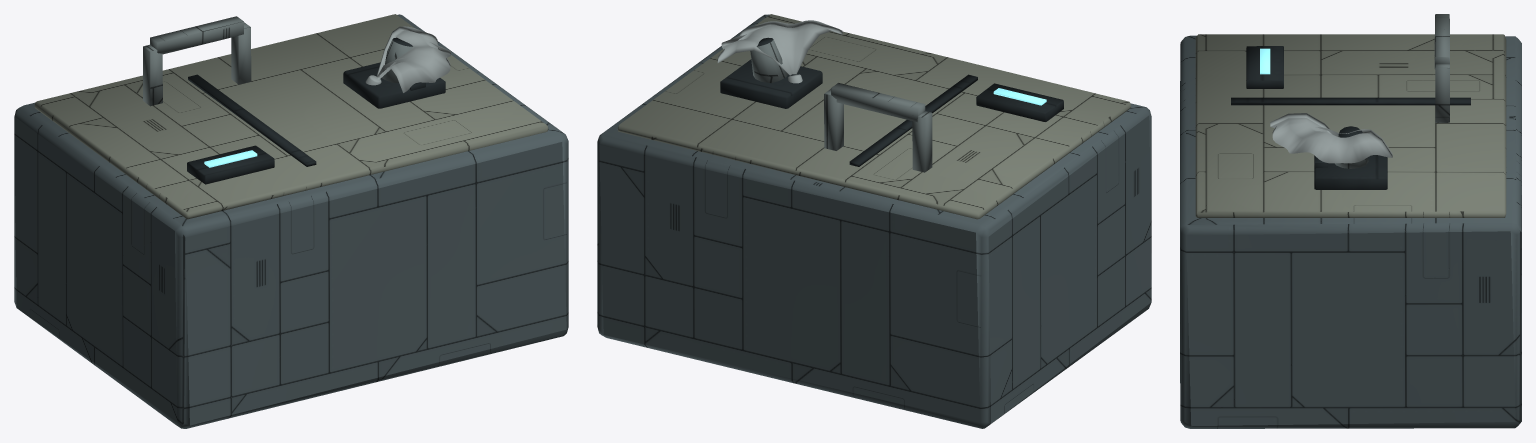
The model's file is borrowed_voice_c_lod2.glb.
The picture shows the model from 3 angles, left to right: view 1: azimuth 30°, elevation 25°; view 2: azimuth 150°, elevation 25°; view 3: azimuth 270°, elevation 25°; orthographic projection.
Visible parts, largest first — view 1: LOD2_Hull, LOD2_Armor, LOD2_MechanicalDark, LOD2_BrushedMetal, LOD2_MOTION_BORROWED_VOICE_RECEIVER_Stone; view 2: LOD2_Hull, LOD2_Armor, LOD2_MechanicalDark, LOD2_BrushedMetal, LOD2_MOTION_BORROWED_VOICE_RECEIVER_Stone, LOD2_MOTION_BORROWED_VOICE_RECEIVER_BrushedMetal; view 3: LOD2_Hull, LOD2_Armor, LOD2_MechanicalDark, LOD2_MOTION_BORROWED_VOICE_RECEIVER_Stone, LOD2_BrushedMetal.
Boxes of the visible parts, x1=… form: LOD2_Hull: x1=14, y1=14, x2=568, y2=428; LOD2_Armor: x1=34, y1=14, x2=548, y2=219; LOD2_MechanicalDark: x1=187, y1=62, x2=445, y2=184; LOD2_BrushedMetal: x1=143, y1=16, x2=251, y2=106; LOD2_MOTION_BORROWED_VOICE_RECEIVER_Stone: x1=365, y1=26, x2=450, y2=92; LOD2_Hull: x1=597, y1=14, x2=1151, y2=428; LOD2_Armor: x1=617, y1=14, x2=1131, y2=219; LOD2_MechanicalDark: x1=720, y1=59, x2=1063, y2=166; LOD2_BrushedMetal: x1=824, y1=83, x2=932, y2=172; LOD2_MOTION_BORROWED_VOICE_RECEIVER_Stone: x1=717, y1=20, x2=842, y2=83; LOD2_MOTION_BORROWED_VOICE_RECEIVER_BrushedMetal: x1=750, y1=40, x2=788, y2=83; LOD2_Hull: x1=1180, y1=35, x2=1521, y2=428; LOD2_Armor: x1=1195, y1=34, x2=1506, y2=217; LOD2_MechanicalDark: x1=1231, y1=46, x2=1470, y2=189; LOD2_MOTION_BORROWED_VOICE_RECEIVER_Stone: x1=1270, y1=113, x2=1392, y2=163; LOD2_BrushedMetal: x1=1434, y1=14, x2=1449, y2=122.
Size of what is drawn, in the model's own units: 3.99 by 2.66 by 2.99.
6 materials, 4 textured.
